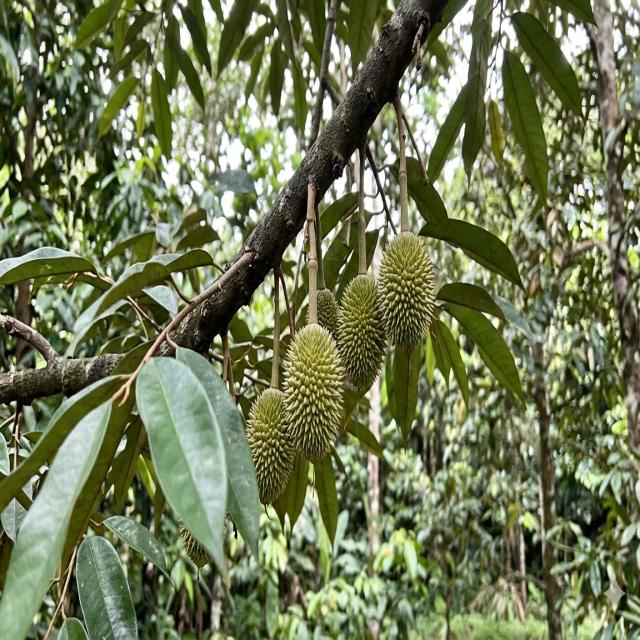immature: (282, 322, 344, 461), (376, 230, 436, 350), (335, 274, 387, 388), (245, 388, 295, 506), (177, 519, 210, 571), (316, 284, 341, 341), (303, 293, 328, 335)
